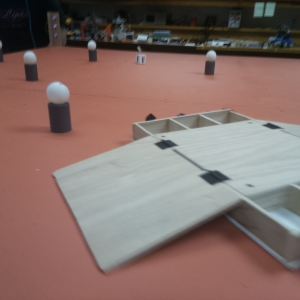blockF: (136, 50, 147, 66)
corner: (47, 12, 61, 46)
obstacle: (46, 83, 74, 135), (22, 51, 40, 82), (204, 48, 216, 76), (87, 40, 98, 64)
slope: (53, 136, 241, 274)
